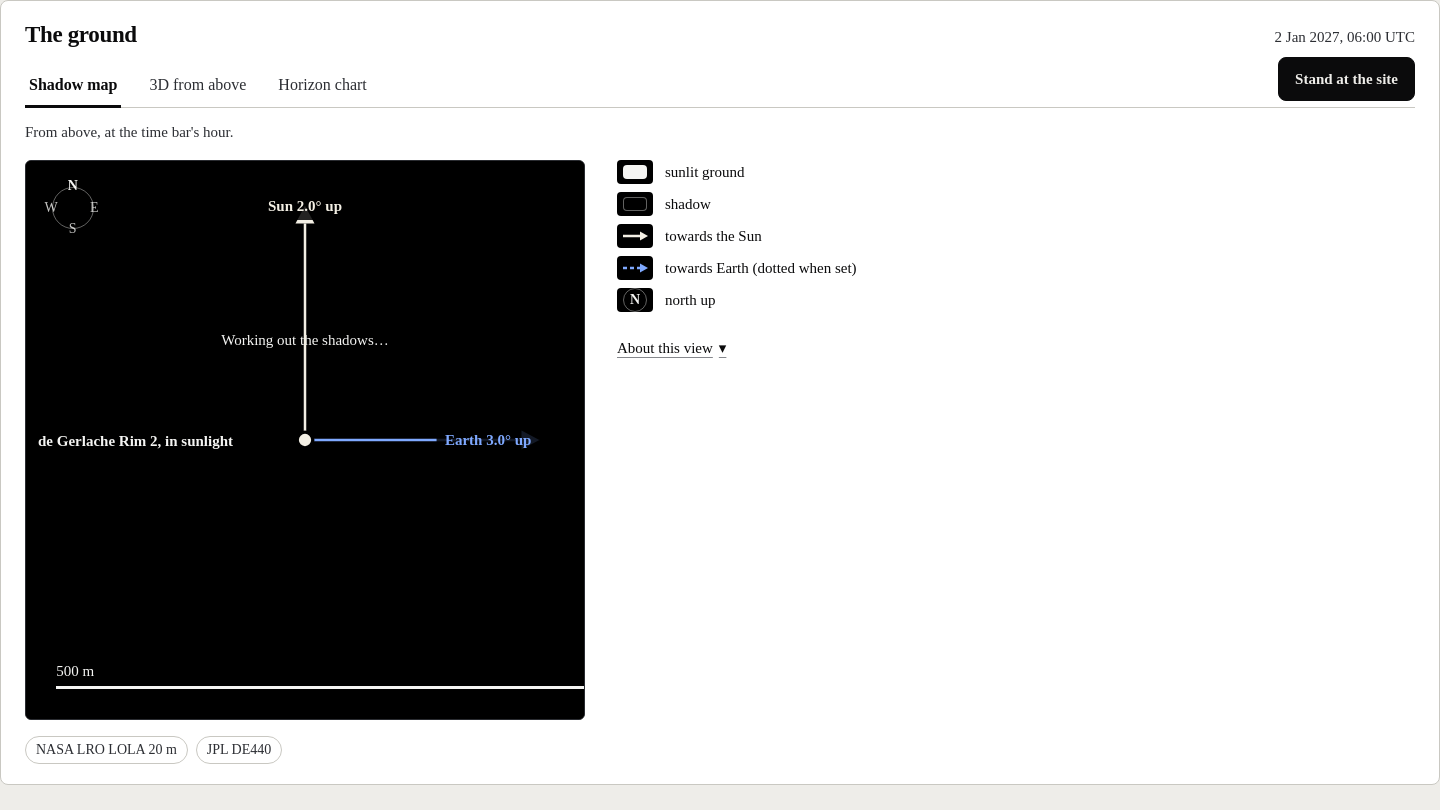
GroundPanel › keeps the 3D view's words in its tab when its code fails to load, and the shadow map works on
Click the tab "3D from above" at (198, 86), box [146, 64, 250, 108]
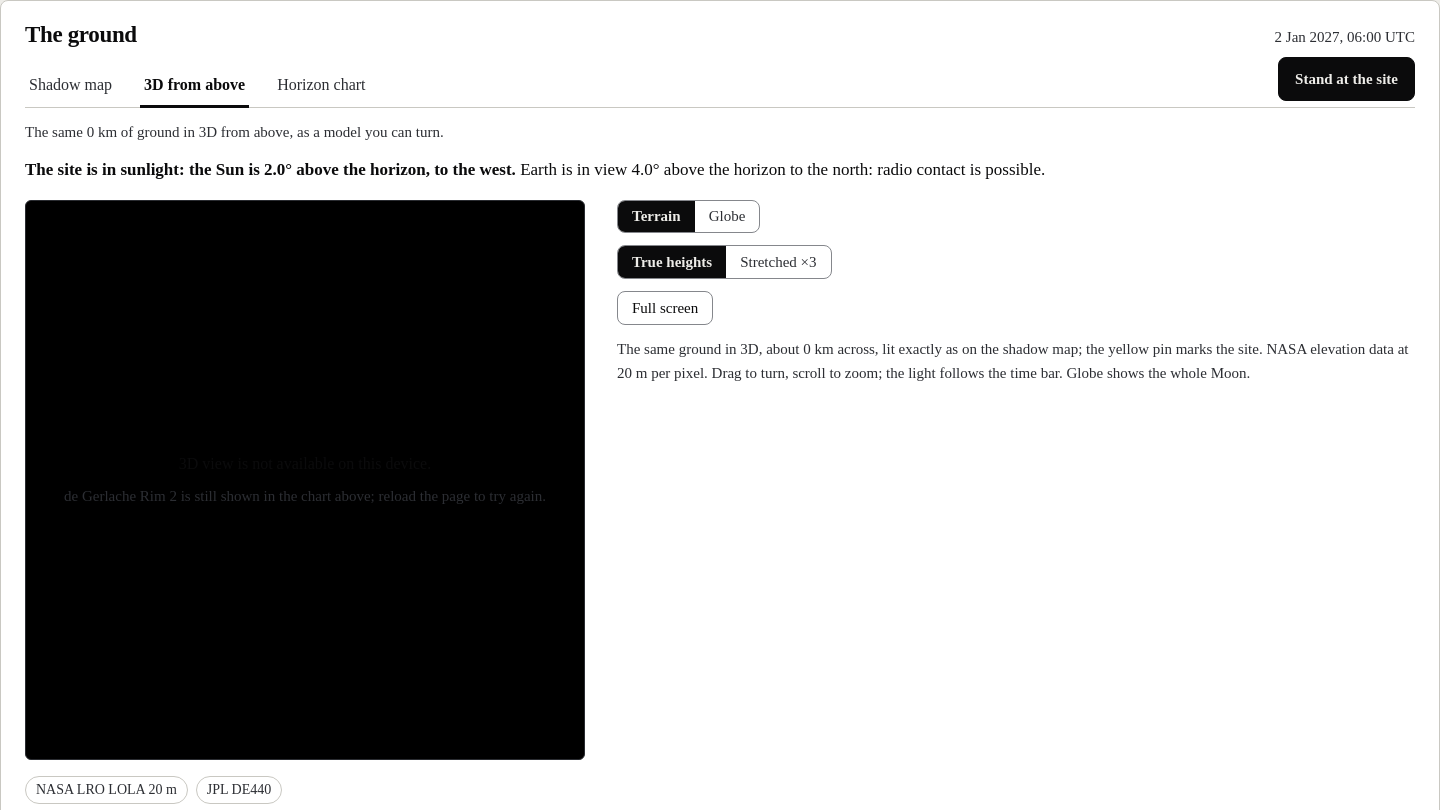
Expected: the button "Terrain" is shown, [618, 201, 695, 232]
// The rest of the panel works on: the shadow map draws in its own tab.
Click the tab "Shadow map" at (71, 86), box [25, 64, 116, 108]
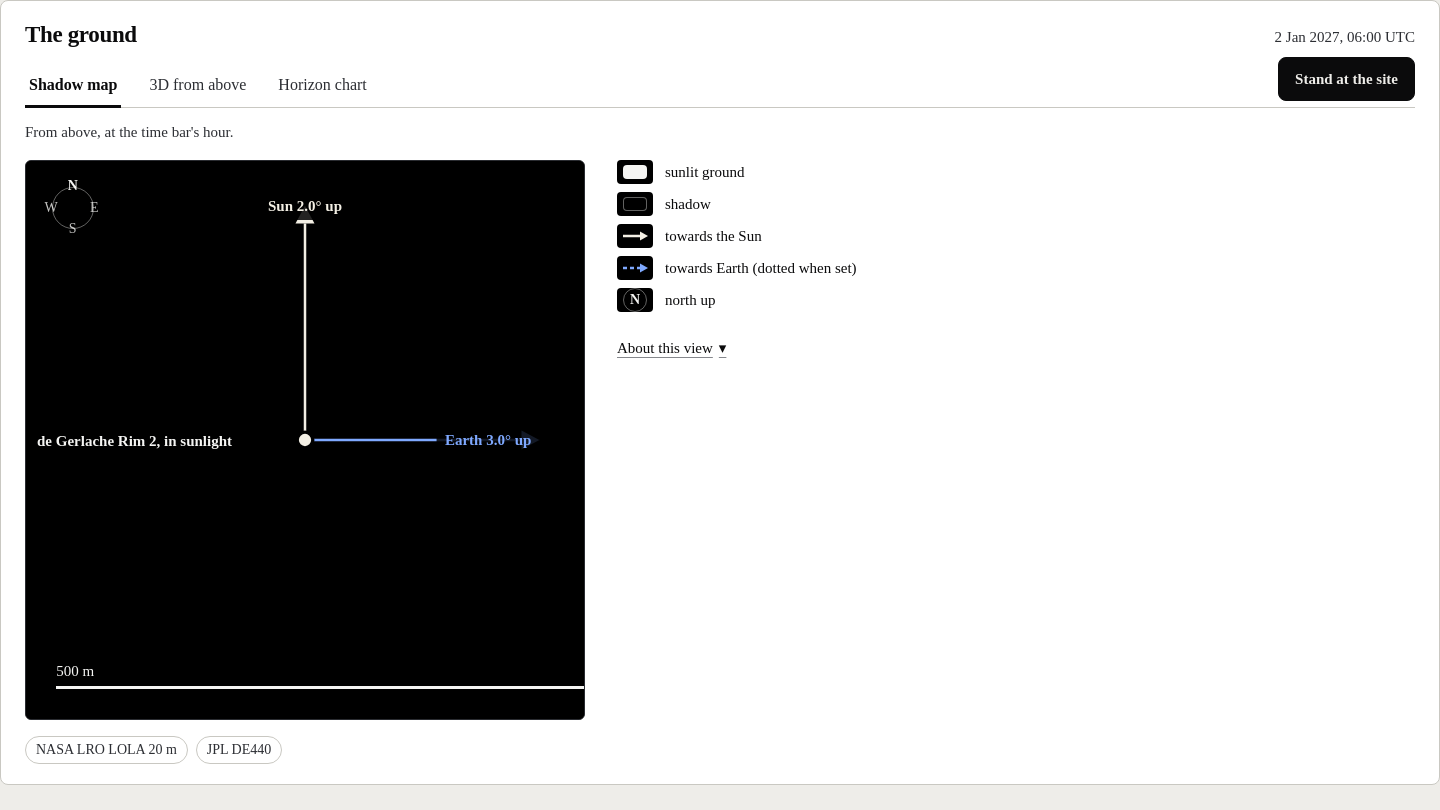
Expected: the picture named "Shadows at 2 Jan 2027, 06:00 UTC. The site is in sunlight." is shown, [26, 161, 584, 719]
